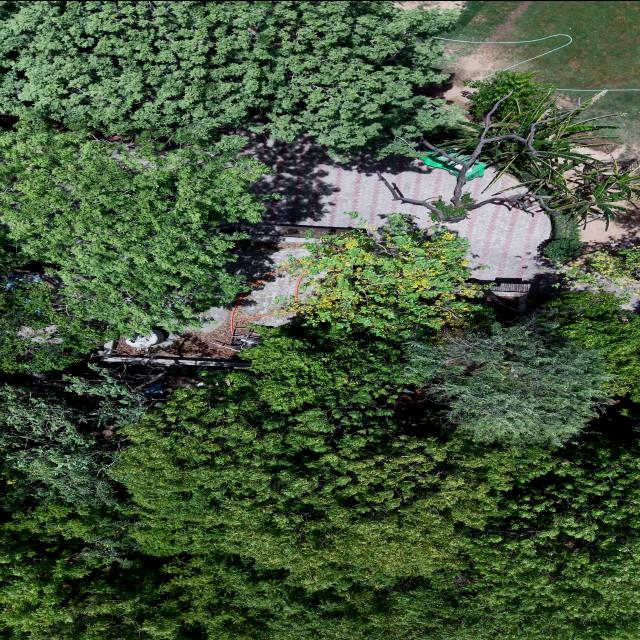DRY_AREA: (403, 1, 639, 88), (249, 141, 455, 228), (447, 1, 639, 89)
VEGETATION_TREE: (0, 1, 639, 639), (110, 327, 637, 639), (0, 1, 455, 331), (114, 373, 637, 639), (3, 436, 637, 639), (113, 372, 553, 586), (290, 215, 637, 444), (0, 1, 455, 157), (0, 124, 269, 333), (380, 71, 639, 259), (0, 366, 167, 639), (442, 72, 637, 224), (0, 481, 167, 639), (404, 318, 610, 444), (286, 215, 481, 338), (0, 364, 154, 506), (443, 1, 639, 105), (0, 230, 115, 374), (251, 325, 405, 410), (0, 276, 114, 373), (548, 292, 639, 402), (559, 247, 639, 300), (540, 213, 584, 261), (542, 237, 583, 261)
